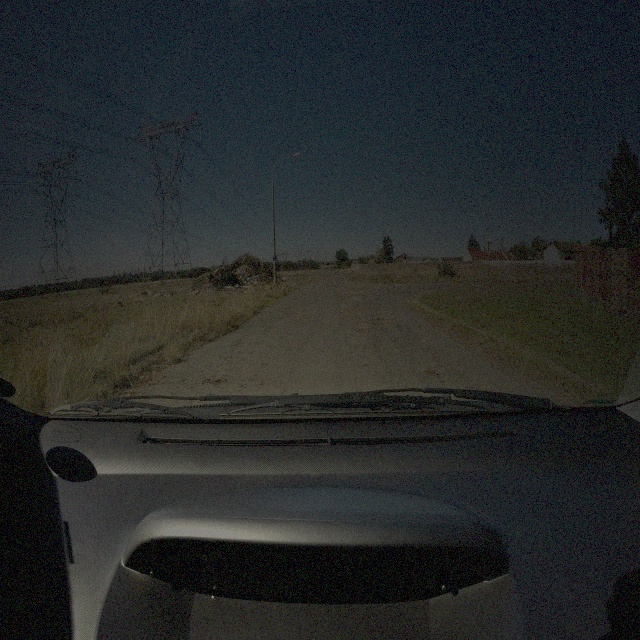pothole: (208, 374, 228, 385), (374, 318, 388, 330), (345, 307, 363, 315), (357, 327, 371, 335), (418, 336, 428, 345), (443, 365, 452, 371)
